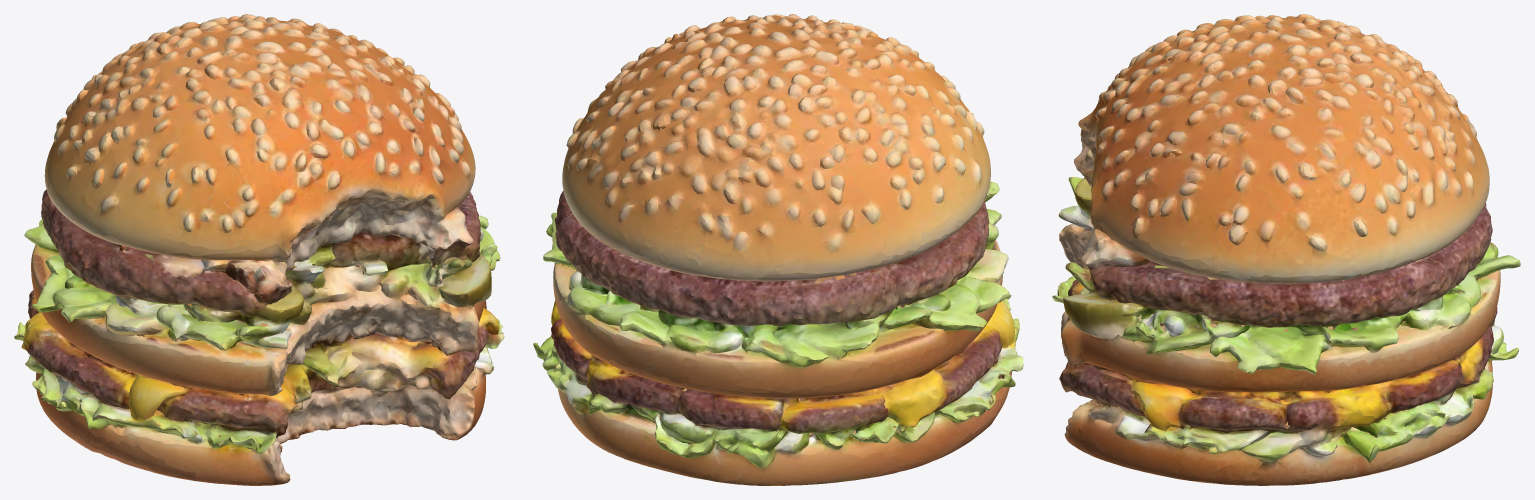
The model's file is burger-1.glb.
3 renders of one model, left to right at view 1: azimuth 30°, elevation 25°; view 2: azimuth 150°, elevation 25°; view 3: azimuth 270°, elevation 25°, orthographic.
Parts seen in each view (by area): view 1: geometry_0; view 2: geometry_0; view 3: geometry_0.
Boxes of the visible parts, x1,y1,x2,y2 form: geometry_0: (14, 14, 504, 485); geometry_0: (533, 14, 1023, 485); geometry_0: (1052, 14, 1520, 485).
Bounding box in the file's own units: 0.1584 × 0.125 × 0.151.
1 material, 1 textured.
